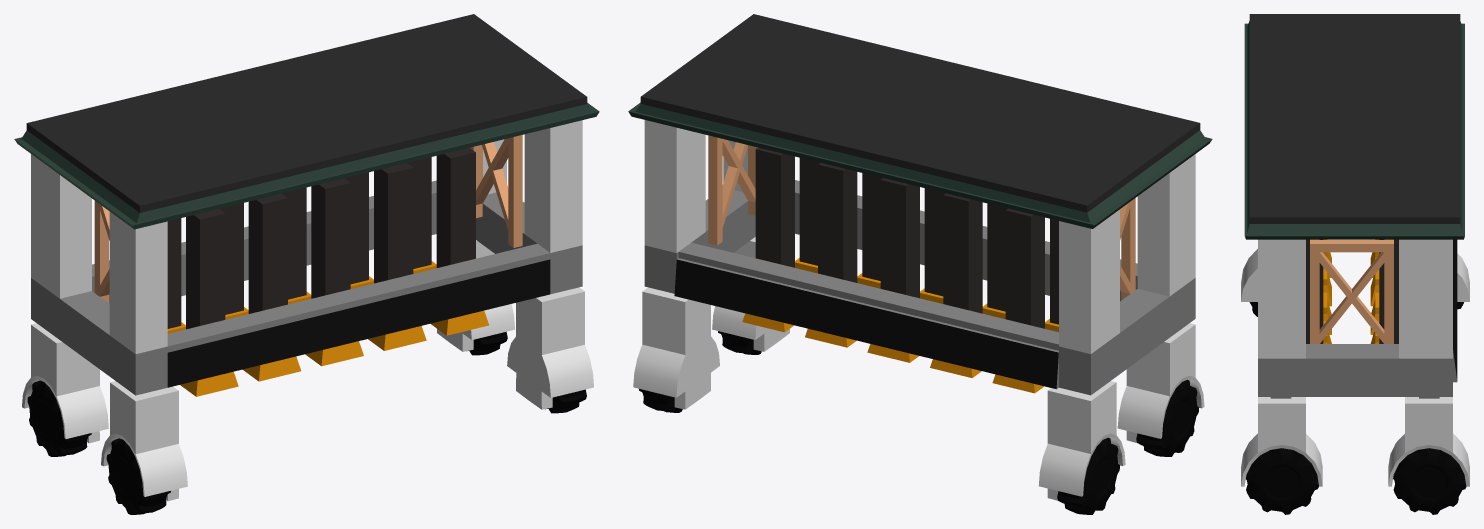
File: Pixelfarming_cart_materialized.fbx
The picture shows the model from 3 angles, left to right: view 1: azimuth 30°, elevation 25°; view 2: azimuth 150°, elevation 25°; view 3: azimuth 270°, elevation 25°; orthographic projection. The views are drawn at different scales.
Visible parts, largest first — view 1: PixelFarming_Cart, Wheel_Left_Back, Wheel_Left_Front; view 2: PixelFarming_Cart, Wheel_Left_Back, Wheel_Left_Front; view 3: PixelFarming_Cart, Wheel_Right_Front, Wheel_Right_Back.
Boxes of the visible parts, x1,y1,x2,y2 form: PixelFarming_Cart: (14,14,599,501); Wheel_Left_Back: (106,438,170,514); Wheel_Left_Front: (27,380,91,456); PixelFarming_Cart: (628,14,1212,500); Wheel_Left_Back: (1136,379,1198,456); Wheel_Left_Front: (1057,437,1119,514); PixelFarming_Cart: (1241,14,1469,486); Wheel_Right_Front: (1393,448,1466,514); Wheel_Right_Back: (1246,448,1318,514).
Size of the model in its own units: 10.62 by 7 by 4.83.
